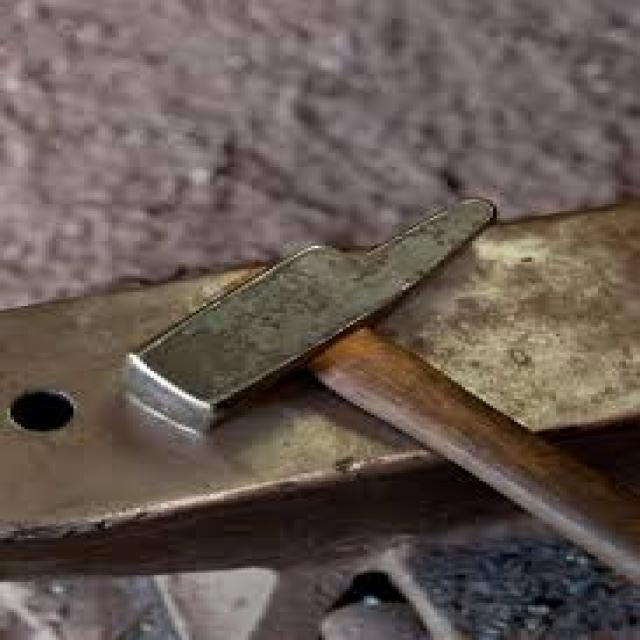hammer: (112, 192, 640, 612)
